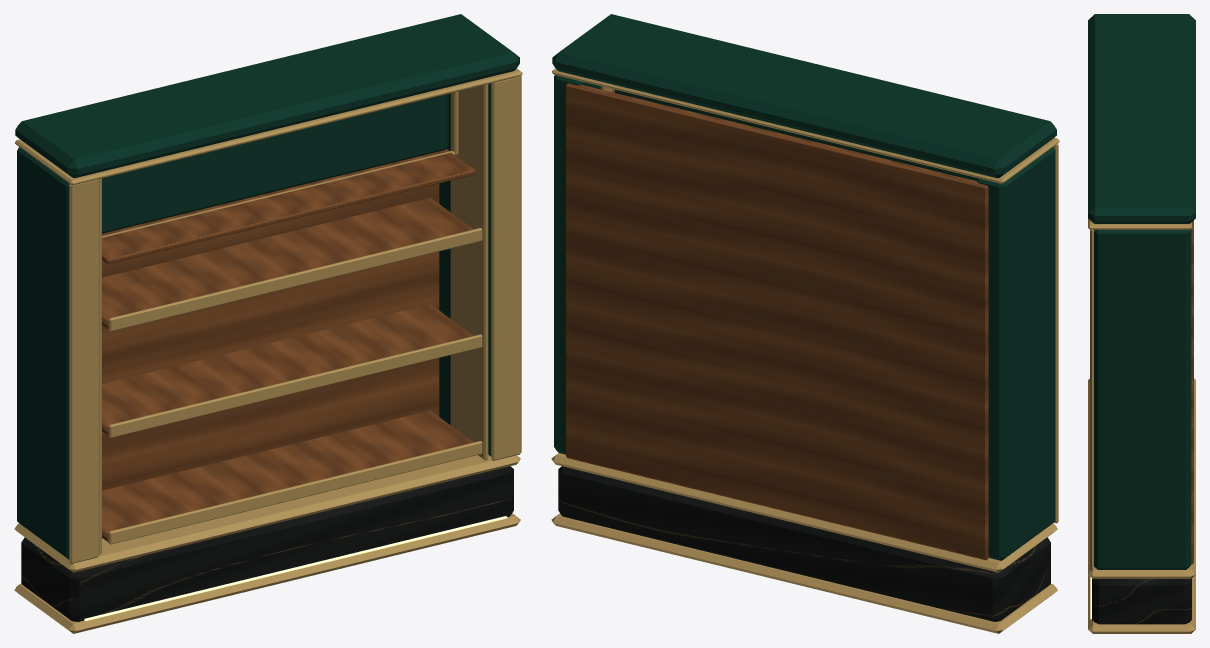
3 views of the same model, side by side, from view 1: azimuth 30°, elevation 25°; view 2: azimuth 150°, elevation 25°; view 3: azimuth 270°, elevation 25° (orthographic). The views are drawn at different scales.
Parts seen in each view (by area): view 1: cabinet_back, cabinet_crown, cabinet_stone_base, cabinet_left_pillar, brand_header_panel, shelf_2, shelf_1, shelf_3, trim_left_front, trim_right_front, trim_right_inner, brand_header_light_canopy (+10 smaller); view 2: cabinet_back, cabinet_crown, cabinet_left_pillar, cabinet_stone_base, trim_base_plinth, trim_base_top, cabinet_right_pillar, trim_crown_lip, trim_left_front, brand_header_panel; view 3: cabinet_right_pillar, cabinet_crown, cabinet_stone_base, trim_base_top, trim_base_plinth, trim_right_front, cabinet_back, trim_crown_lip.
Boxes of the visible parts, bbox=[...] form: cabinet_back: bbox=[102, 183, 439, 490]; cabinet_crown: bbox=[15, 14, 519, 177]; cabinet_stone_base: bbox=[21, 466, 513, 621]; cabinet_left_pillar: bbox=[17, 147, 69, 559]; brand_header_panel: bbox=[102, 94, 448, 233]; shelf_2: bbox=[102, 304, 473, 435]; shelf_1: bbox=[102, 410, 473, 542]; shelf_3: bbox=[102, 197, 473, 329]; trim_left_front: bbox=[69, 179, 99, 563]; trim_right_front: bbox=[491, 75, 521, 460]; trim_right_inner: bbox=[450, 84, 488, 460]; brand_header_light_canopy: bbox=[102, 149, 476, 264]; cabinet_back: bbox=[566, 83, 989, 560]; cabinet_crown: bbox=[552, 14, 1056, 178]; cabinet_left_pillar: bbox=[976, 147, 1055, 560]; cabinet_stone_base: bbox=[558, 466, 1050, 621]; trim_base_plinth: bbox=[551, 513, 1057, 633]; trim_base_top: bbox=[551, 453, 1057, 572]; cabinet_right_pillar: bbox=[554, 75, 601, 454]; trim_crown_lip: bbox=[552, 68, 1059, 183]; trim_left_front: bbox=[1053, 144, 1058, 523]; brand_header_panel: bbox=[615, 89, 976, 180]; cabinet_right_pillar: bbox=[1094, 229, 1190, 569]; cabinet_crown: bbox=[1088, 14, 1195, 223]; cabinet_stone_base: bbox=[1092, 578, 1191, 624]; trim_base_top: bbox=[1088, 378, 1195, 578]; trim_base_plinth: bbox=[1088, 575, 1195, 633]; trim_right_front: bbox=[1090, 229, 1093, 570]; cabinet_back: bbox=[1191, 220, 1193, 564]; trim_crown_lip: bbox=[1088, 219, 1191, 229].
Size of the model in its own units: 2.4 by 2.4 by 0.55.
Materials: 5 (2 with a texture image).
